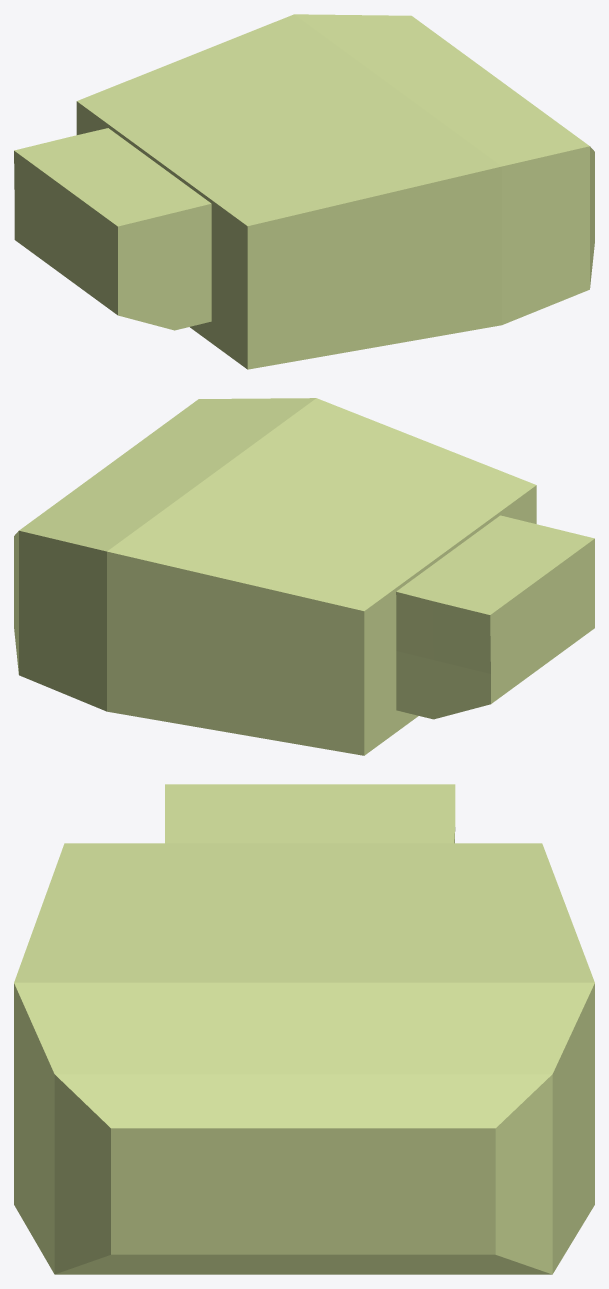
The model's file is turret.fbx.
3 views of the same model, one above another, from view 1: azimuth 30°, elevation 25°; view 2: azimuth 150°, elevation 25°; view 3: azimuth 270°, elevation 25° (orthographic). The views are drawn at different scales.
Parts seen in each view (by area): view 1: Cube; view 2: Cube; view 3: Cube.
Boxes of the visible parts, left/top/right/bottom form: Cube: left=14, top=14, right=594, bottom=369; Cube: left=14, top=398, right=594, bottom=755; Cube: left=14, top=784, right=594, bottom=1274.
Size of the model in its own units: 350 by 116 by 275.
